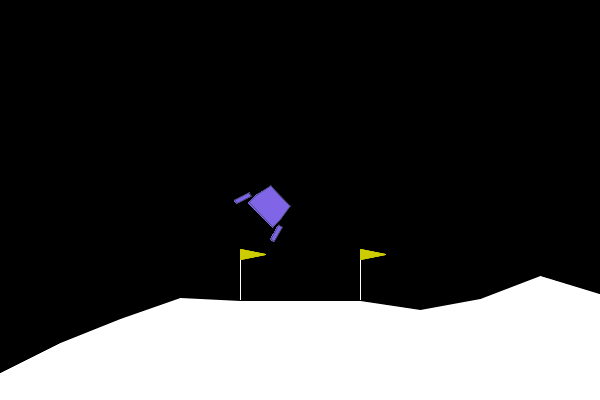lander: (232, 173, 302, 244)
